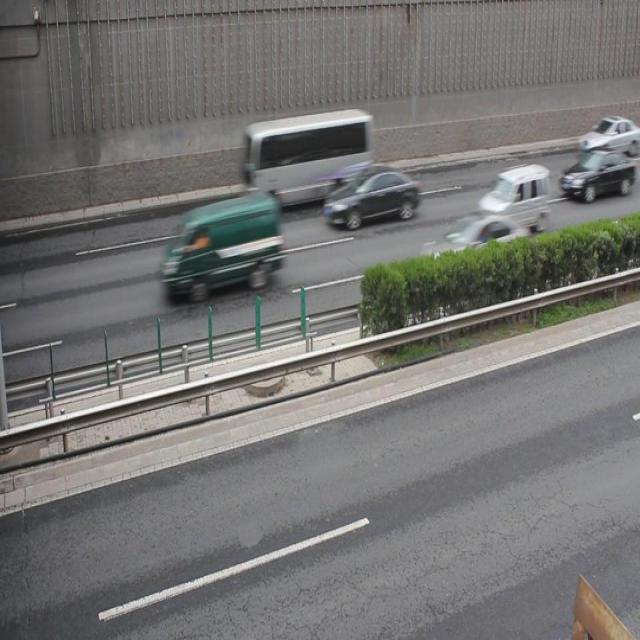car: (419, 216, 529, 276), (324, 171, 418, 227), (558, 149, 629, 201), (580, 115, 640, 159)
truck: (162, 196, 280, 295), (478, 162, 547, 232)
van: (242, 110, 374, 208)
